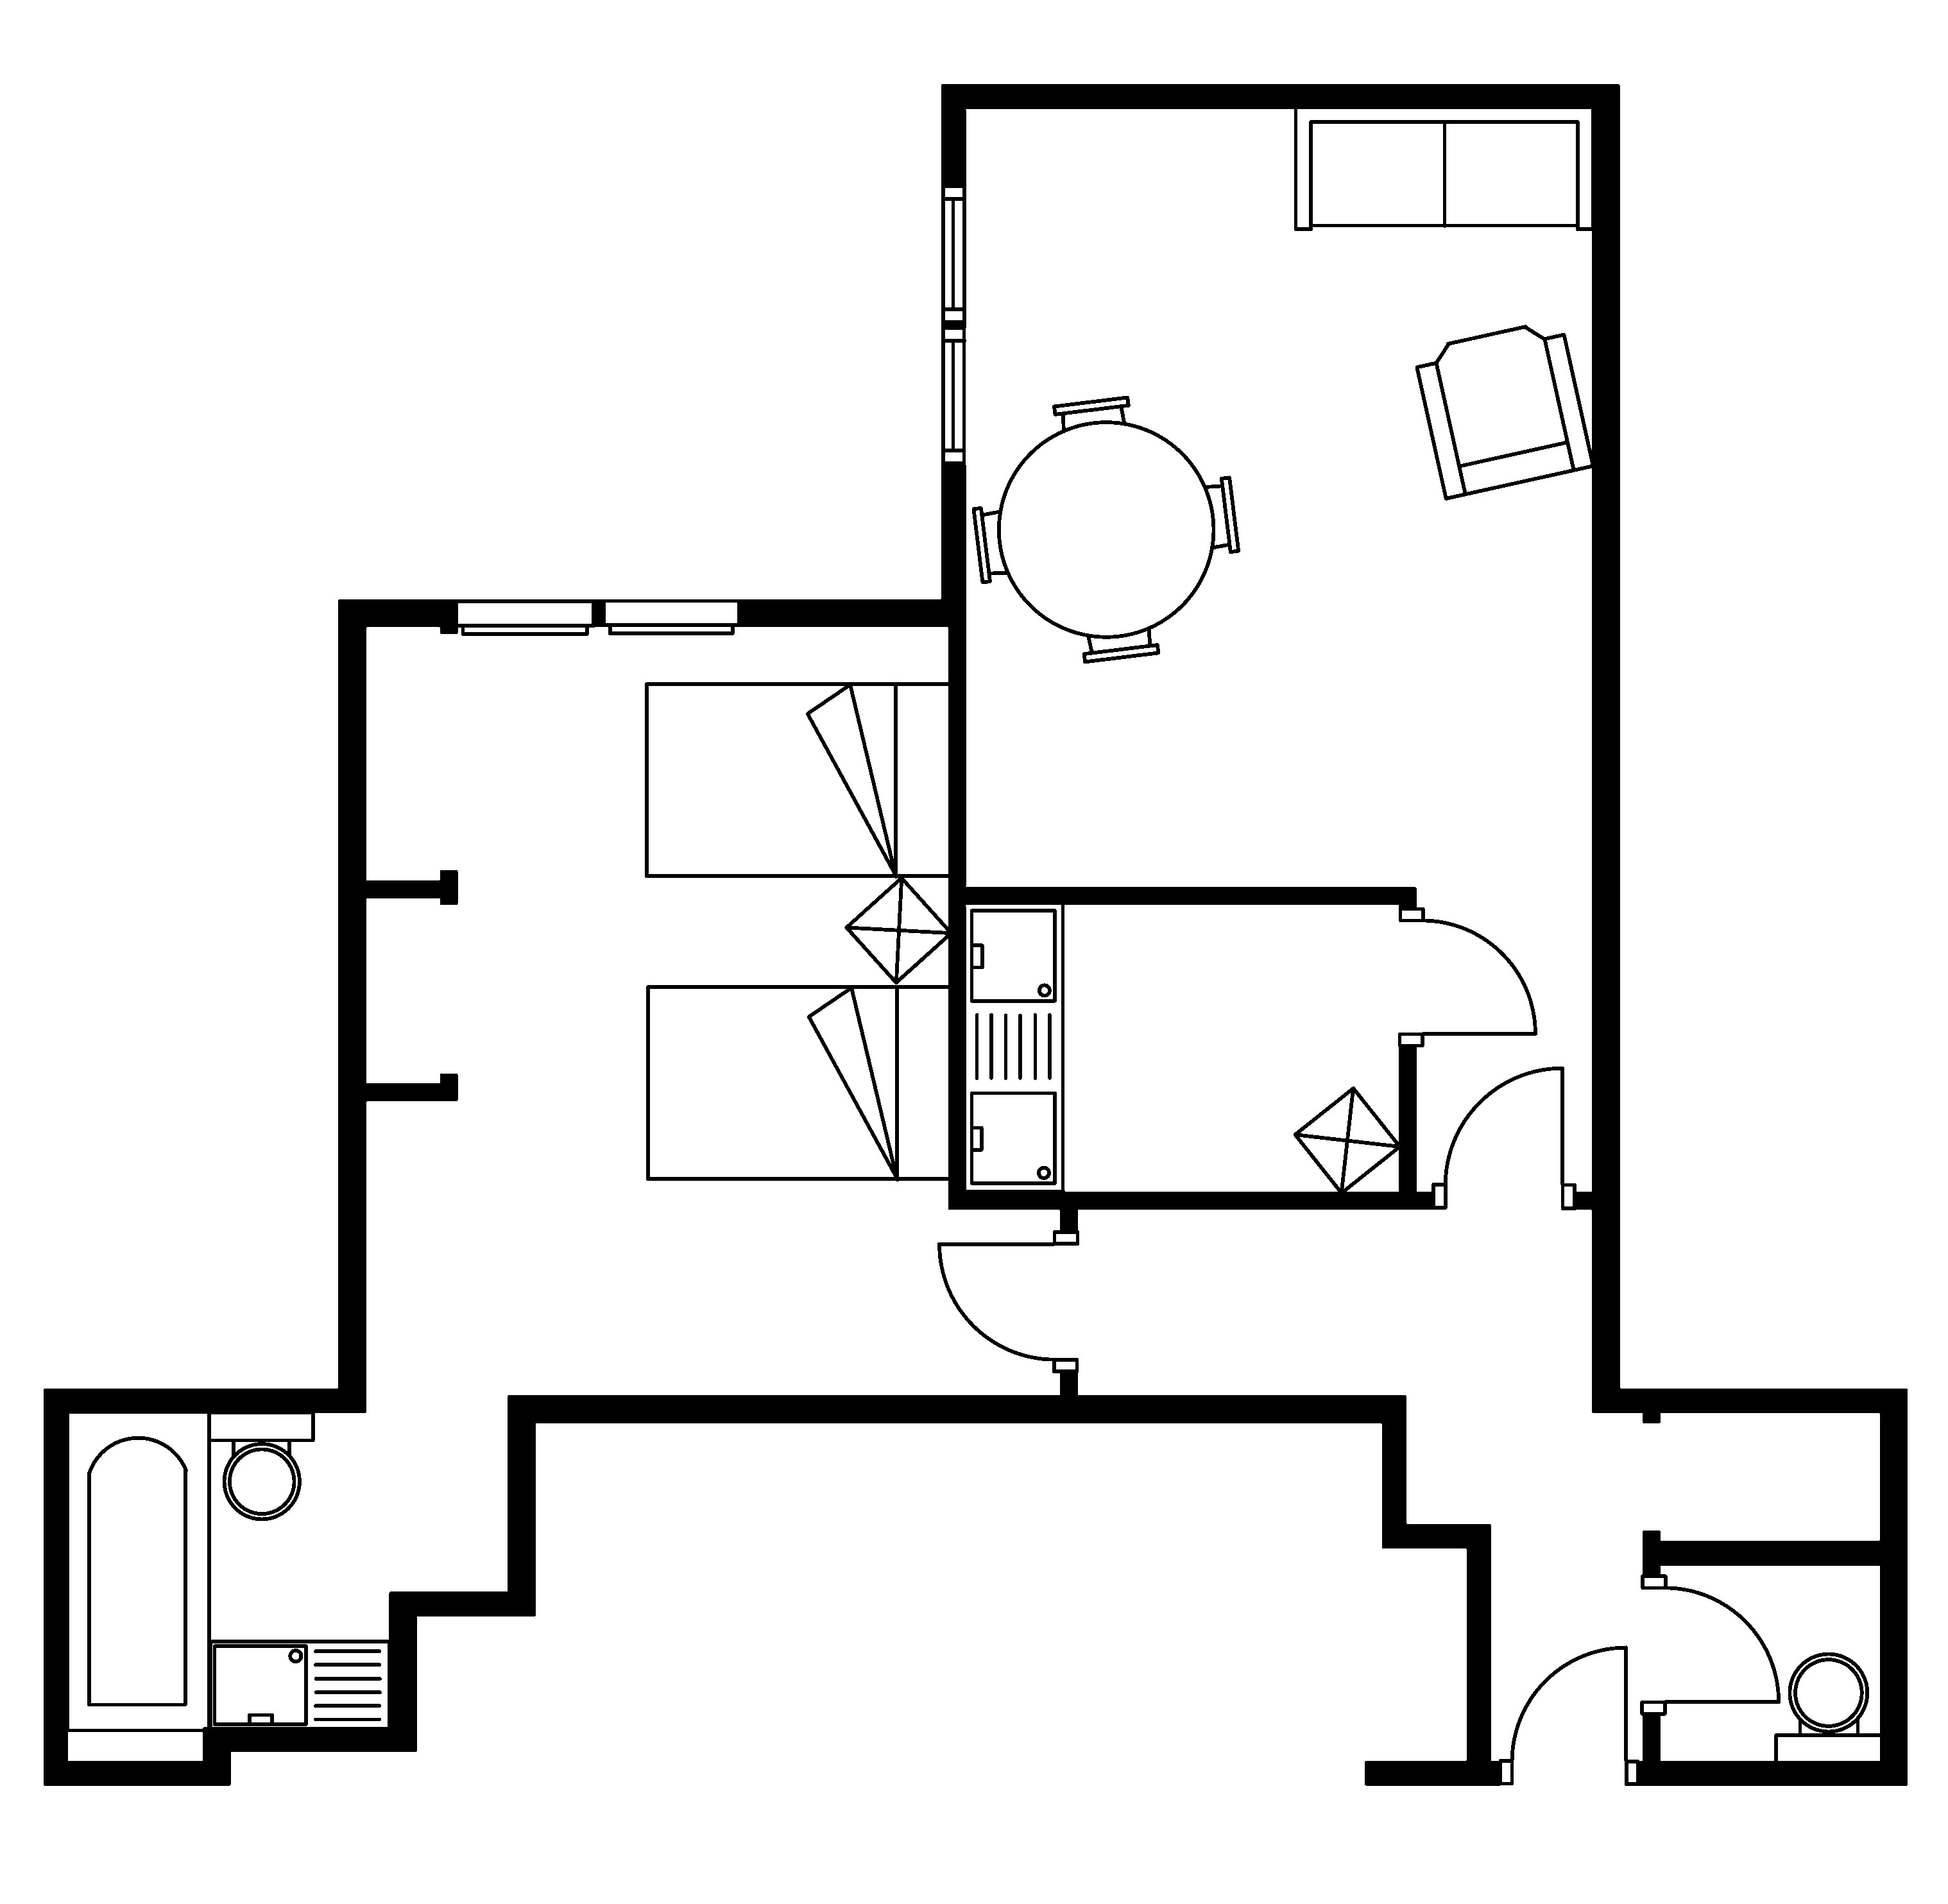armchair: (1414, 323, 1596, 500)
bed: (644, 680, 952, 879), (645, 983, 954, 1182)
coffee_table: (1292, 1085, 1402, 1194), (844, 875, 952, 985)
large_sink: (1774, 1653, 1885, 1766), (206, 1411, 316, 1520)
large_sofa: (1292, 105, 1596, 230)
round_table: (971, 394, 1240, 664)
sink: (208, 1639, 391, 1731)
tub: (65, 1409, 211, 1733)
twin_sink: (961, 900, 1066, 1194)
